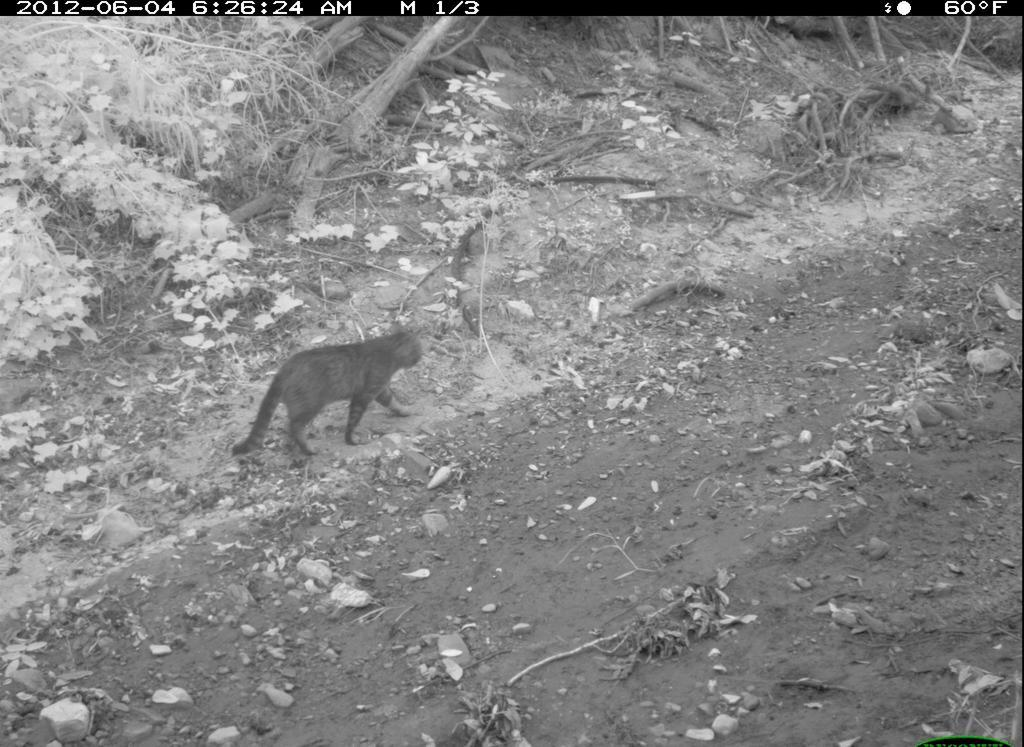cat: (231, 331, 434, 474)
